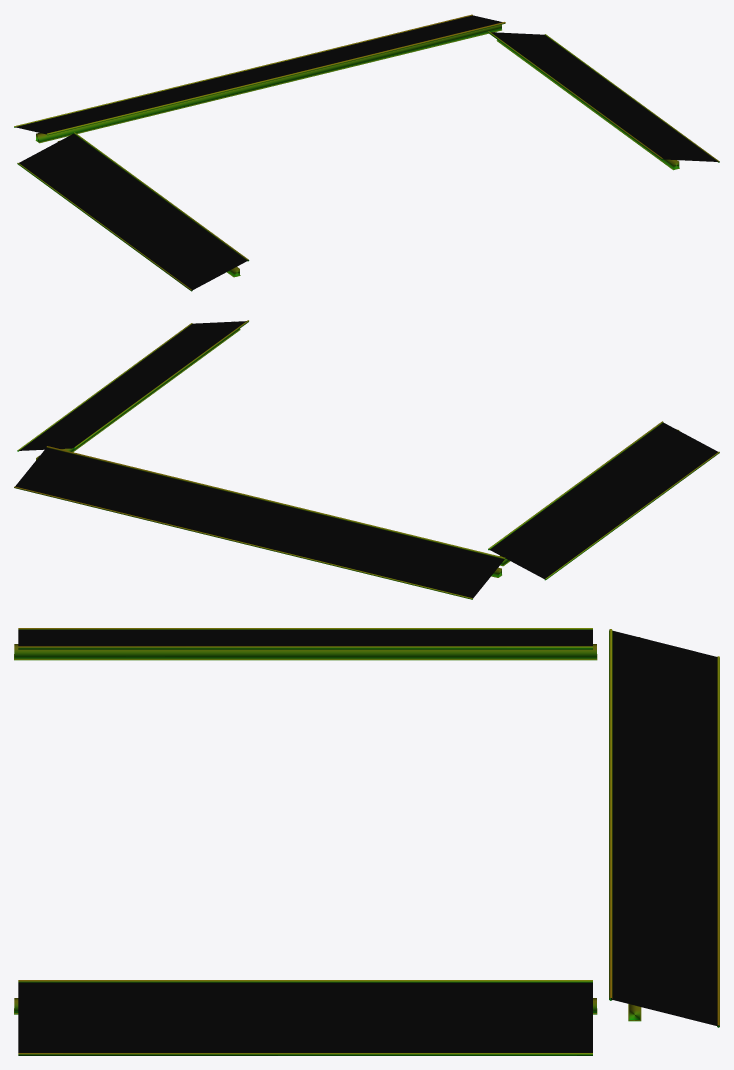
File: court_colonnade_roofs.glb
The picture shows the model from 3 angles, top to bottom: view 1: azimuth 30°, elevation 25°; view 2: azimuth 150°, elevation 25°; view 3: azimuth 270°, elevation 25°; orthographic projection. The views are drawn at different scales.
Visible parts, largest first — view 1: court_colonnade_roofs; view 2: court_colonnade_roofs; view 3: court_colonnade_roofs.
Part boxes in pixels (x1,y1,x2,y2): court_colonnade_roofs: [14, 14, 719, 291]; court_colonnade_roofs: [14, 320, 719, 599]; court_colonnade_roofs: [14, 628, 719, 1055].
Size of what is drawn, in the model's own units: 33.7 by 1.11 by 23.59.
